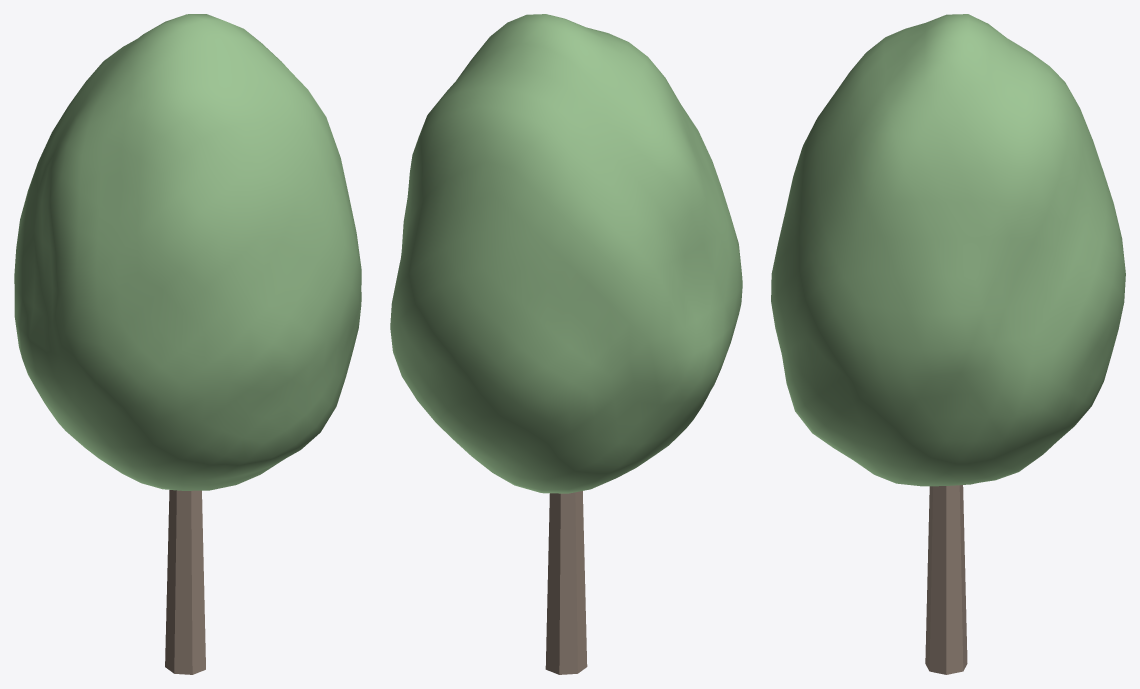
File: tree-broadleaf-a.glb
3 views of the same model, side by side, from view 1: azimuth 30°, elevation 25°; view 2: azimuth 150°, elevation 25°; view 3: azimuth 270°, elevation 25° (orthographic).
Parts seen in each view (by area): view 1: tree-broadleaf-a; view 2: tree-broadleaf-a; view 3: tree-broadleaf-a.
Boxes of the visible parts, box(x1,y1,x2,y2) form: tree-broadleaf-a: box(14, 14, 361, 674); tree-broadleaf-a: box(390, 14, 742, 674); tree-broadleaf-a: box(771, 14, 1125, 674).
Bounding box in the file's own units: 0.4979 × 1 × 0.4946.
